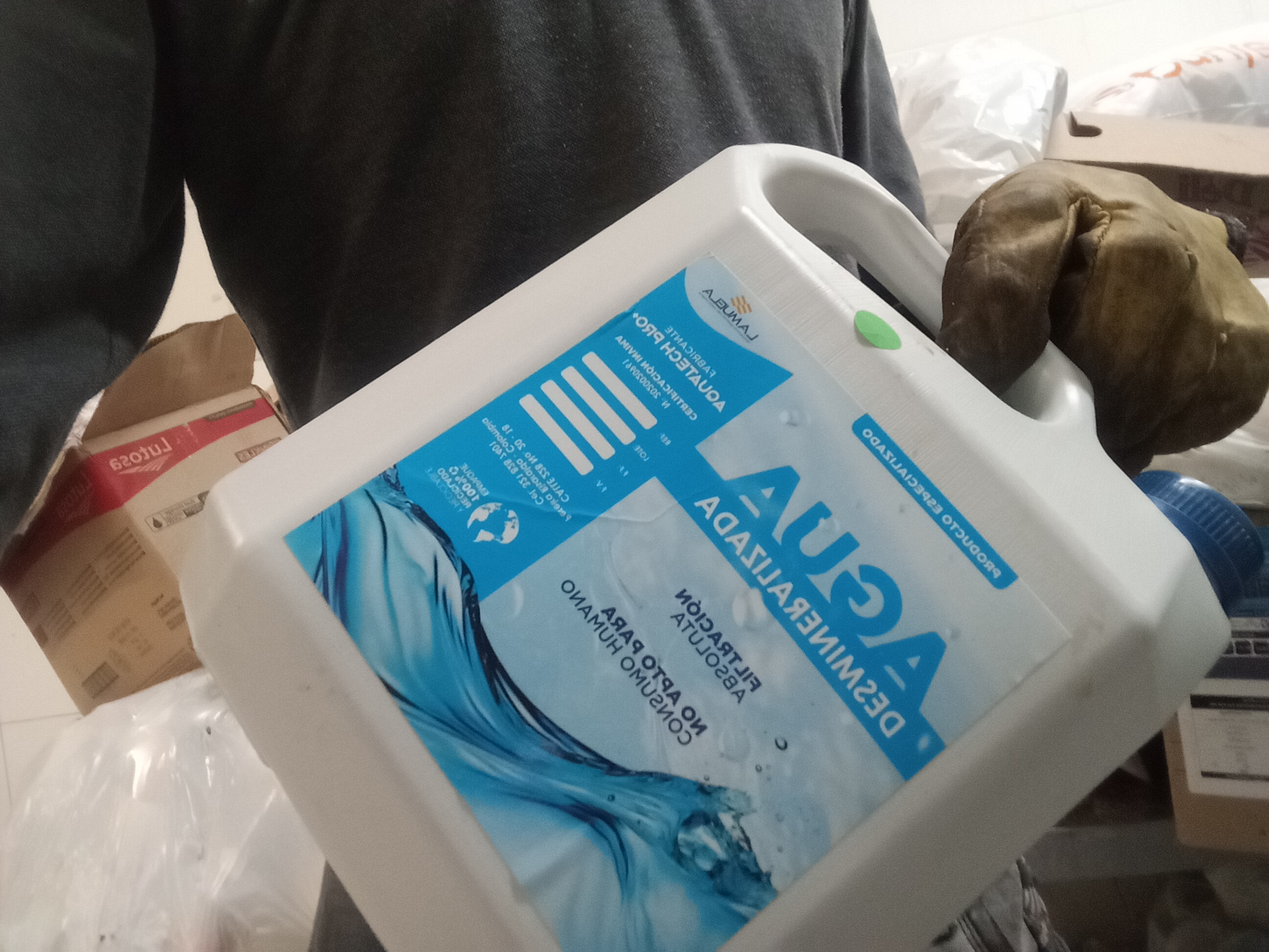Plastico: (181, 141, 1237, 952)
